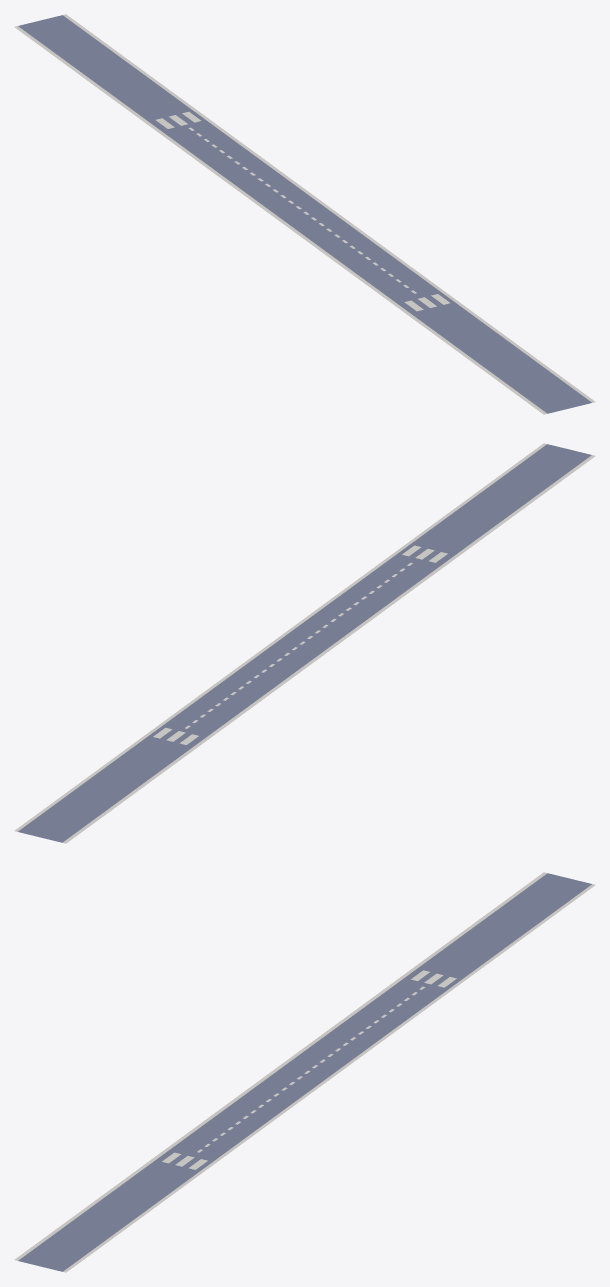
The model's file is Road.fbx.
3 views of the same model, one above another, from view 1: azimuth 30°, elevation 25°; view 2: azimuth 150°, elevation 25°; view 3: azimuth 330°, elevation 25° (orthographic).
Parts seen in each view (by area): view 1: road; view 2: road; view 3: road.
Part boxes in pixels (bbox=[...]): road: bbox=[14, 14, 595, 414]; road: bbox=[14, 443, 595, 843]; road: bbox=[14, 872, 595, 1272].
Size of the model in its own units: 14.11 by 0.0724 by 248.
